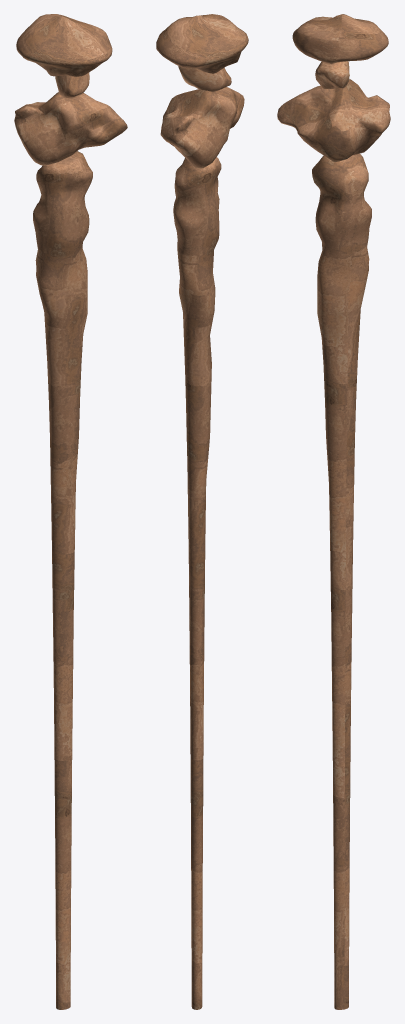
The model's file is Ob_RockPillar9.fbx.
3 views of the same model, side by side, from view 1: azimuth 90°, elevation 25°; view 2: azimuth 150°, elevation 25°; view 3: azimuth 270°, elevation 25° (orthographic).
Visible parts, largest first — view 1: Ob_RockPillar9; view 2: Ob_RockPillar9; view 3: Ob_RockPillar9.
Part boxes in pixels (x1,y1,x2,y2): Ob_RockPillar9: [14, 14, 127, 1009]; Ob_RockPillar9: [156, 14, 248, 1009]; Ob_RockPillar9: [277, 14, 390, 1009].
Size of the model in its own units: 12857 by 171227 by 17764.
